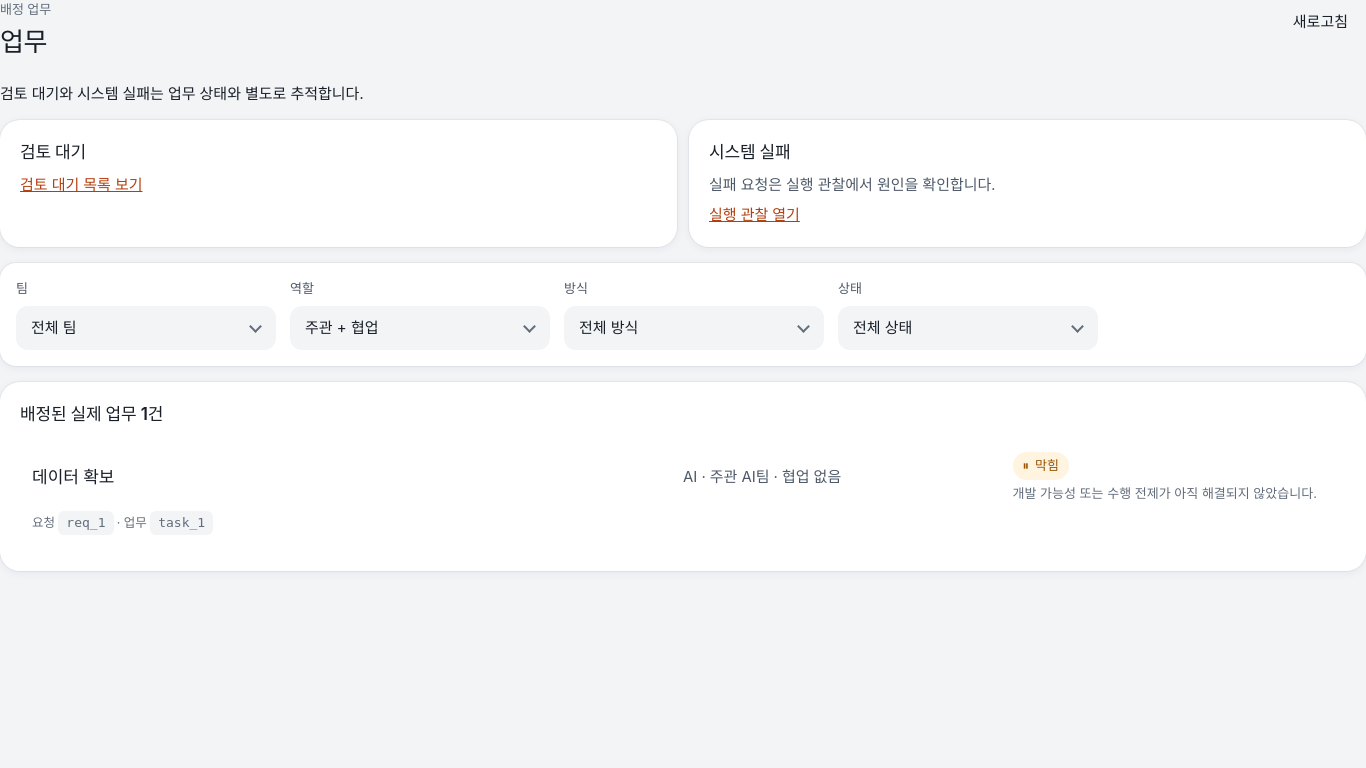
Test case: Tasks block reasons (P4-01) › shows Korean block reasons in list and detail and disables the start button
Click the button "데이터 확보": (683, 493) left=20, top=436, right=1346, bottom=550
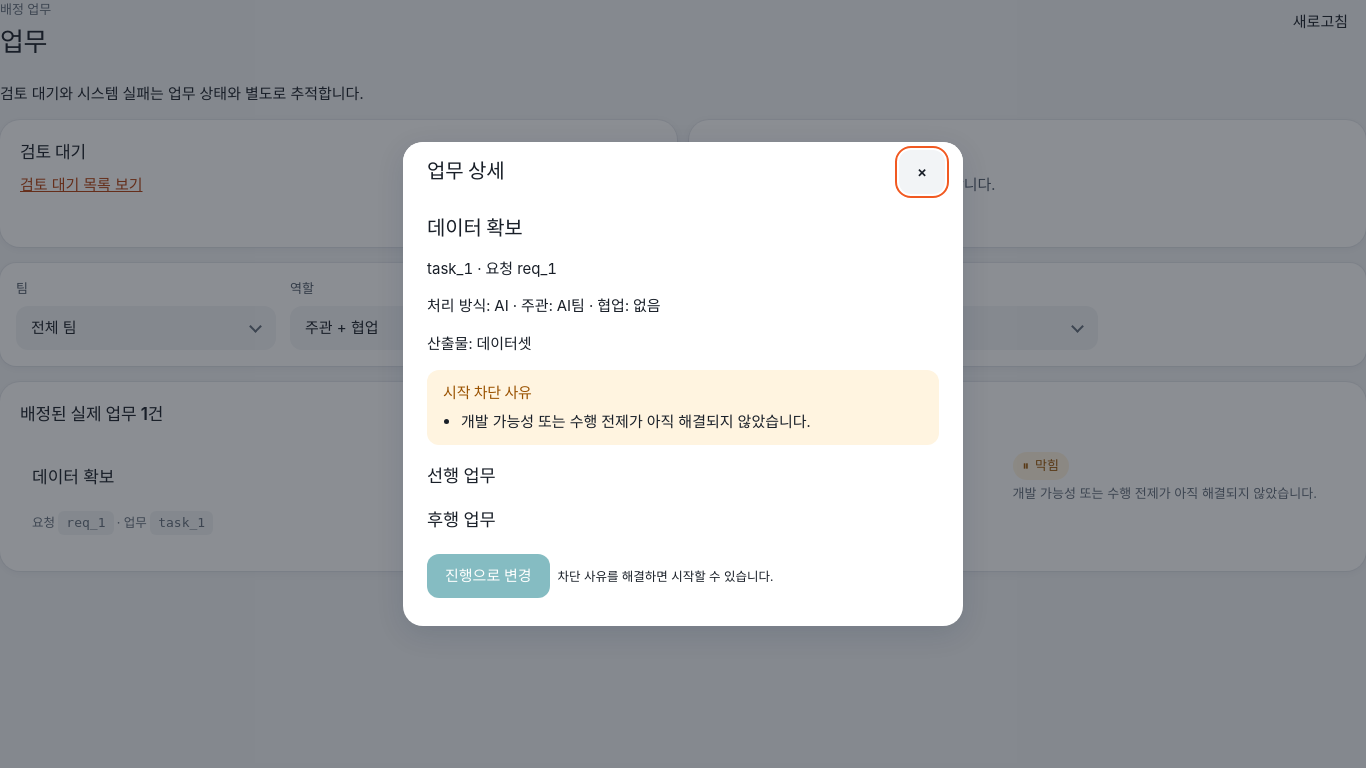
expect the dialog "업무 상세" shows "시작 차단 사유": met, box left=443, top=383, right=532, bottom=402
expect the dialog "업무 상세" shows "개발 가능성": met, box left=461, top=412, right=811, bottom=431
expect the button "진행으로 변경" is disabled: met, box left=427, top=554, right=550, bottom=598
